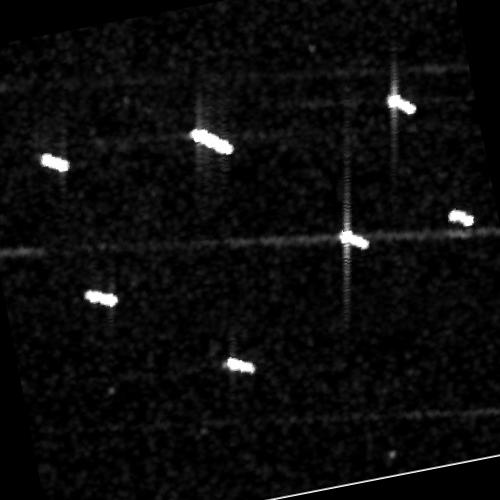ship: (190, 127, 235, 155), (387, 92, 418, 115), (83, 289, 119, 308), (338, 229, 370, 249), (40, 153, 70, 173), (226, 357, 257, 375), (449, 210, 476, 226)
